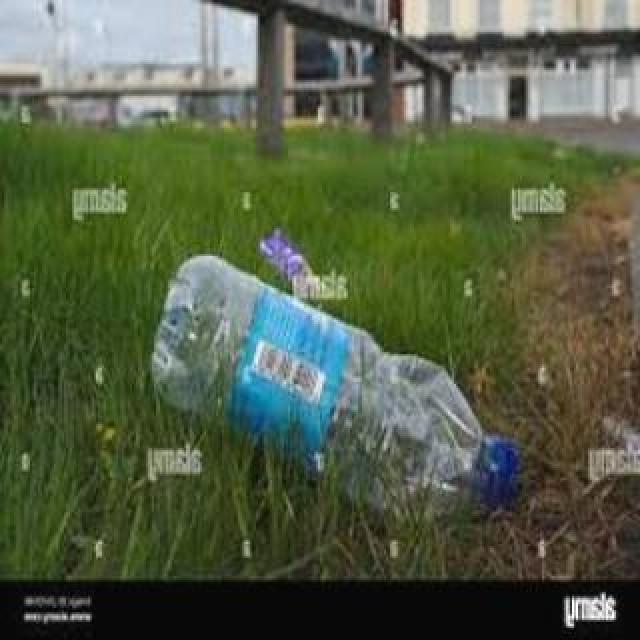Pet_Bottle: (151, 252, 521, 510)
